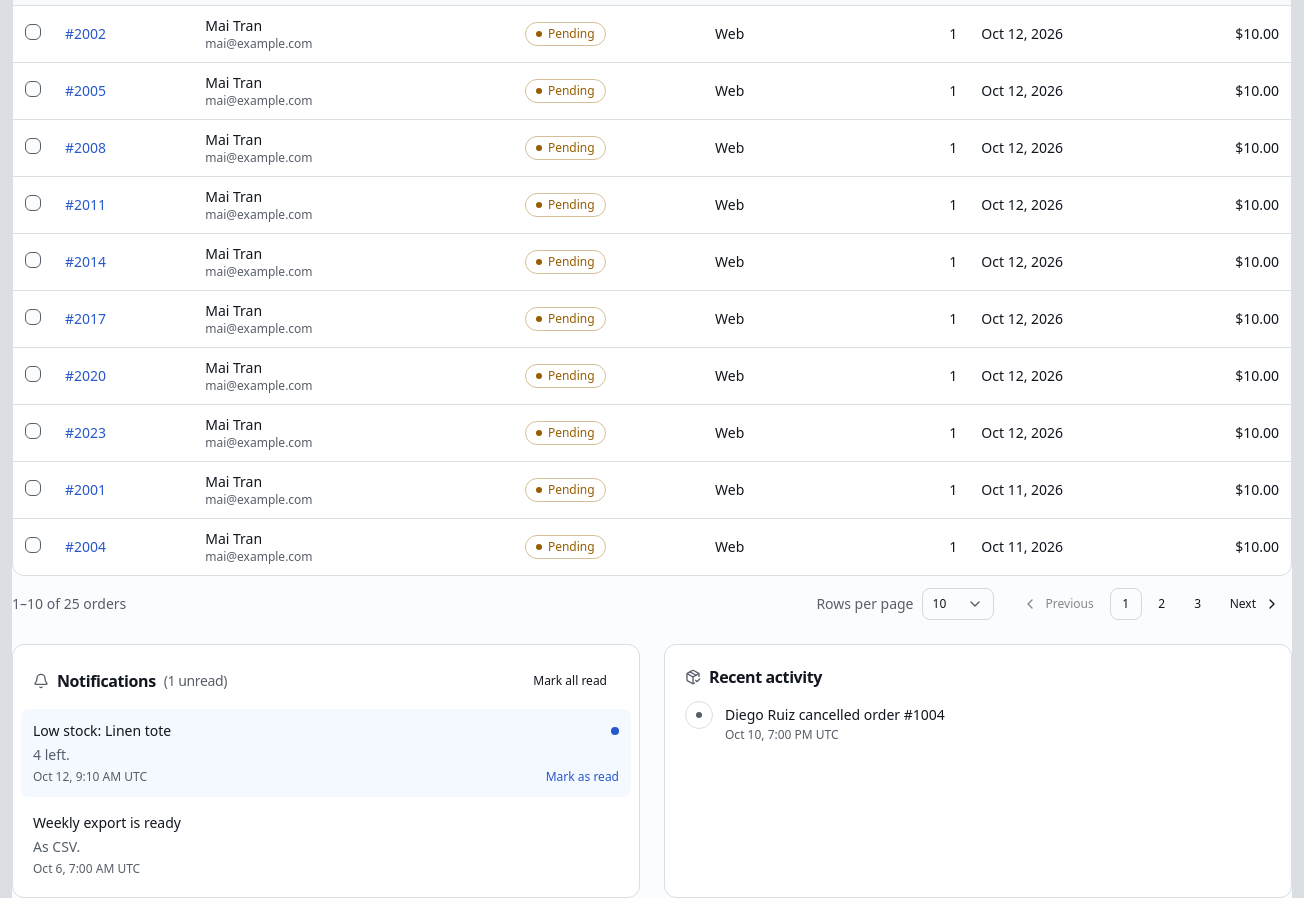
it: OrdersDashboard › returns to page 1 when the filters change
(page scrolled)
Click the button named "Page 3": (1198, 604) 1182,588 -> 1214,620
(page scrolled)
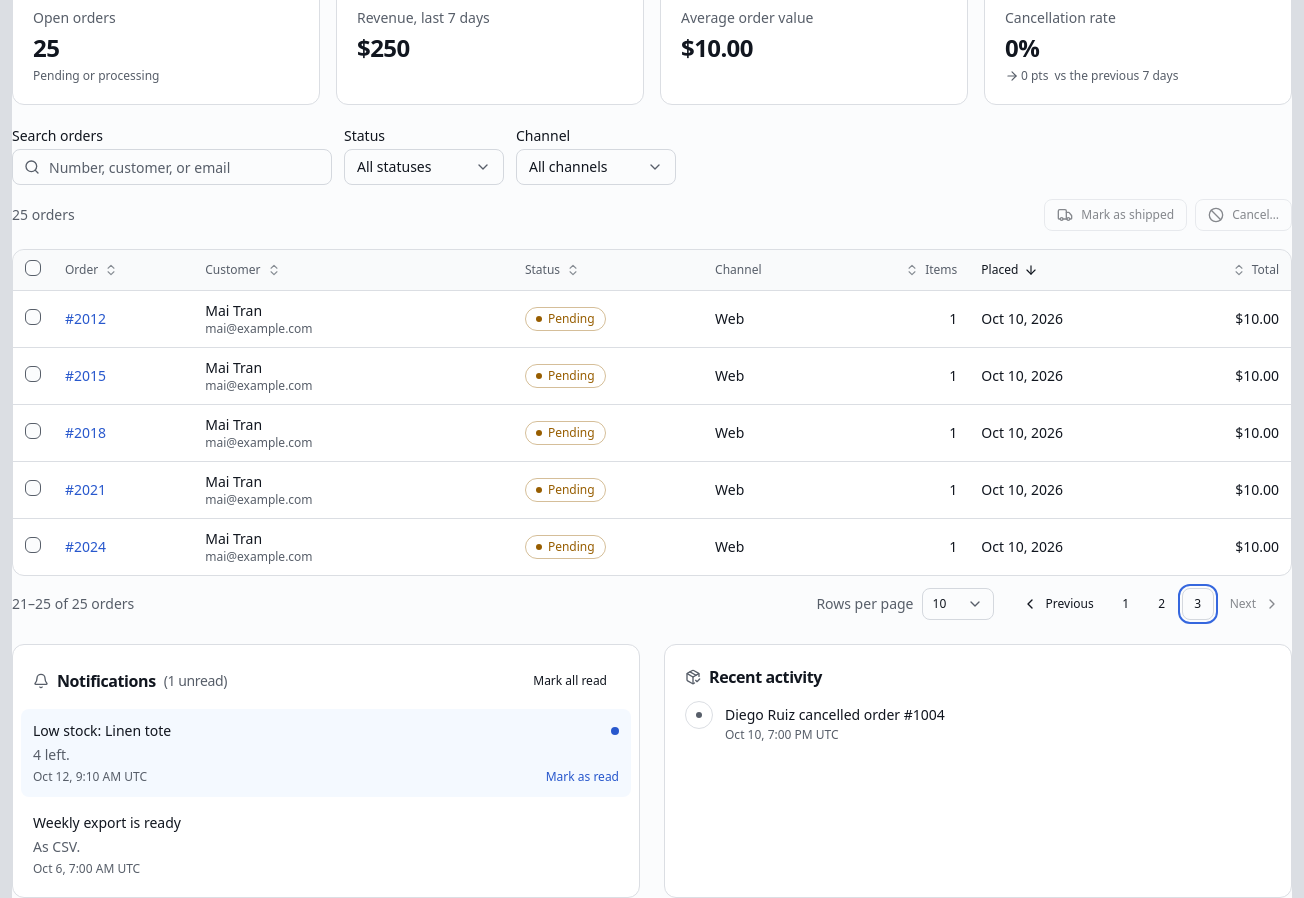
Expected: the text "21–25 of 25 orders" is shown, 12,594 -> 134,614
In the search field labelled "Search orders": (172, 167) 12,149 -> 332,185, type "20"
(page scrolled)
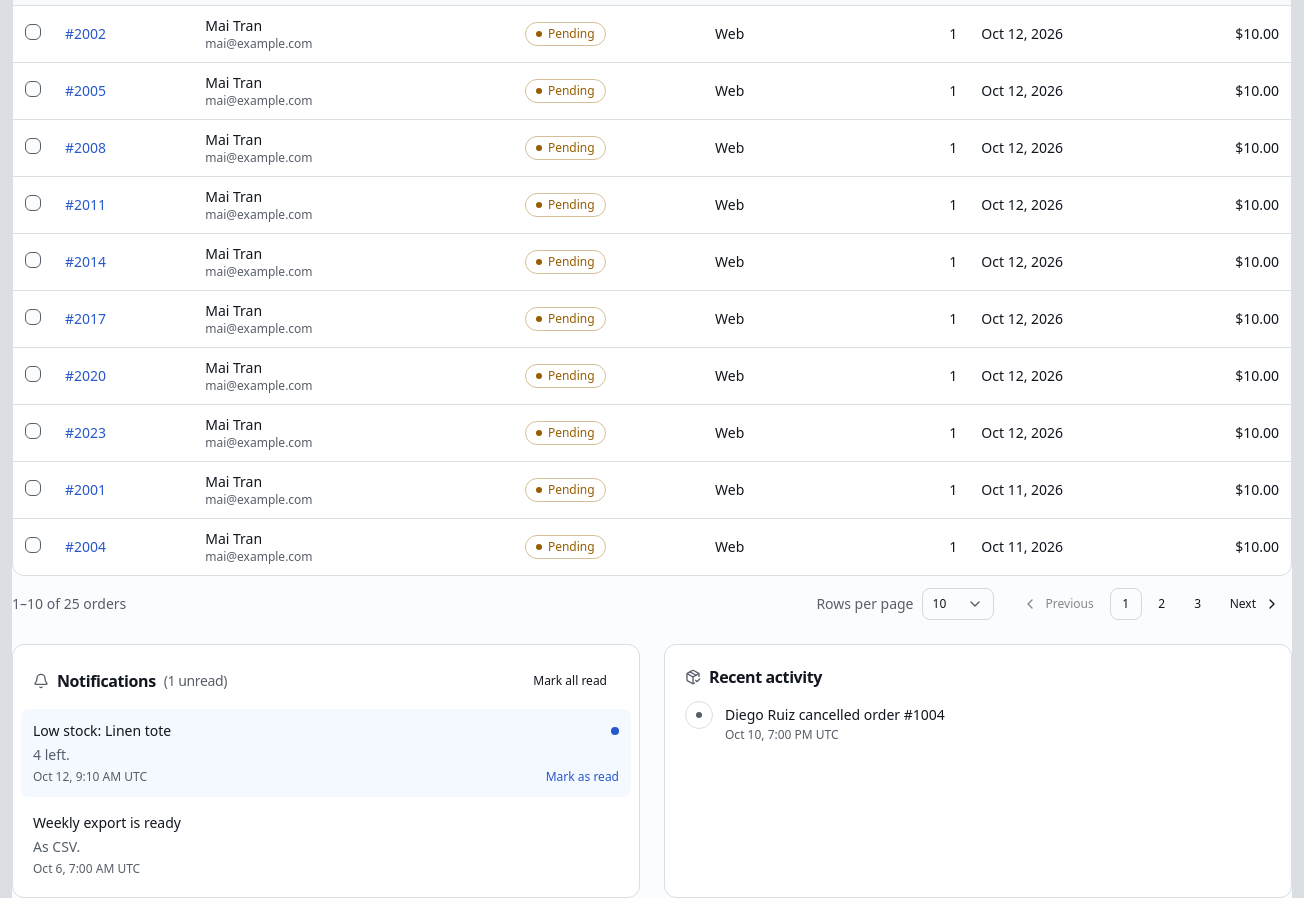
Expected: the text "1–10 of 25 orders" is shown, 12,594 -> 126,614
